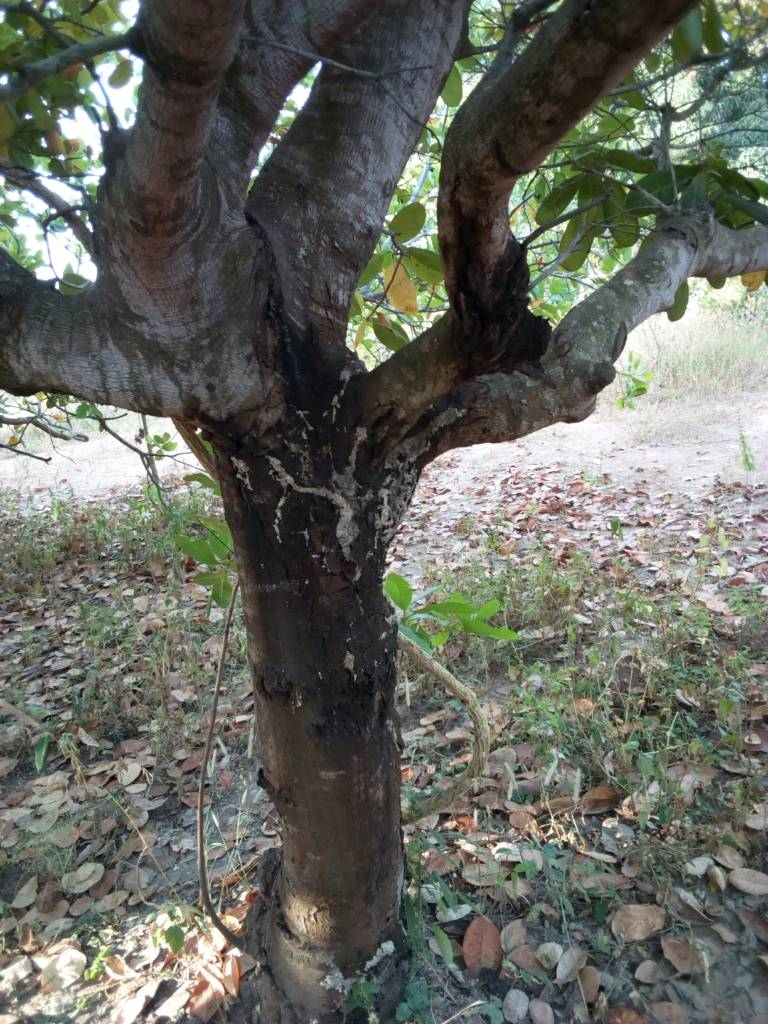Gommose: (249, 353, 421, 753), (447, 194, 550, 363)
